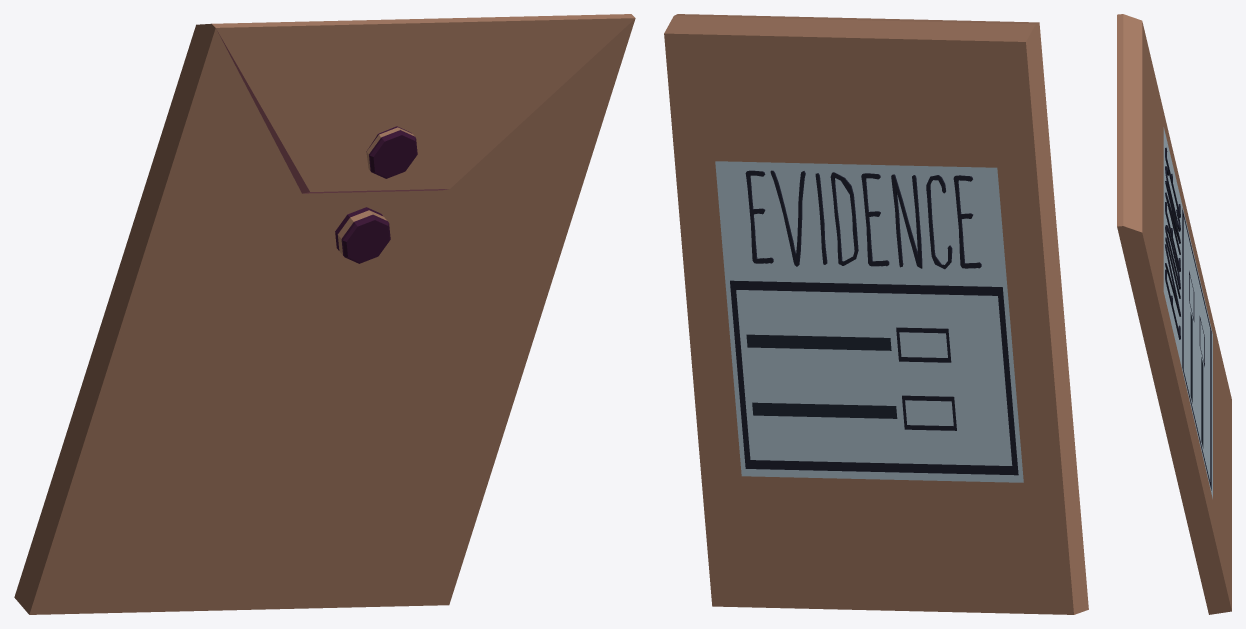
The model's file is EvidenceFolder.fbx.
The picture shows the model from 3 angles, left to right: view 1: azimuth 30°, elevation 25°; view 2: azimuth 150°, elevation 25°; view 3: azimuth 270°, elevation 25°; orthographic projection. The views are drawn at different scales.
Visible parts, largest first — view 1: EvidenceFolder; view 2: EvidenceFolder; view 3: EvidenceFolder.
Part boxes in pixels (x1=…): EvidenceFolder: x1=14, y1=14, x2=635, y2=614; EvidenceFolder: x1=664, y1=14, x2=1088, y2=614; EvidenceFolder: x1=1117, y1=14, x2=1231, y2=614.
Size of the model in its own units: 83.66 by 103 by 21.57.
